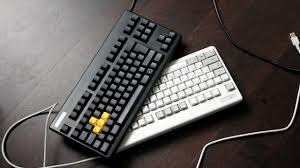keyboard: (37, 6, 247, 165)
